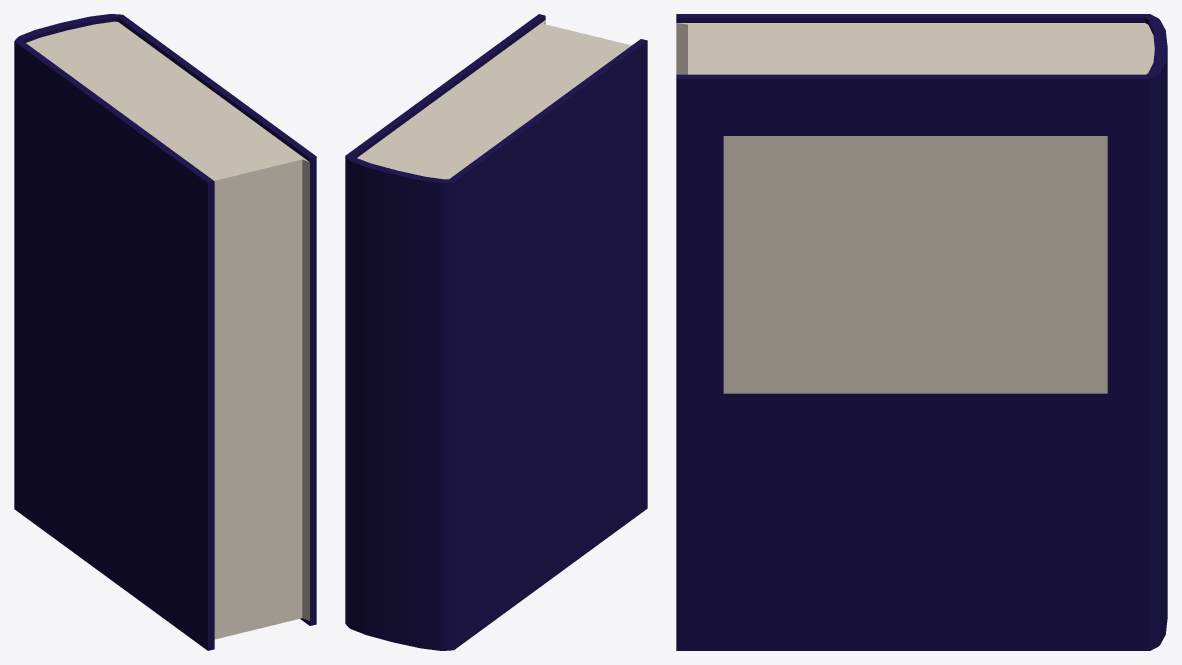
3 views of the same model, side by side, from view 1: azimuth 30°, elevation 25°; view 2: azimuth 150°, elevation 25°; view 3: azimuth 270°, elevation 25° (orthographic). The views are drawn at different scales.
Parts seen in each view (by area): view 1: pCube1; view 2: pCube1; view 3: pCube1.
Part boxes in pixels (x1,y1,x2,y2): pCube1: (14,14,316,650); pCube1: (345,14,647,650); pCube1: (676,14,1167,650).
Bounding box in the file's own units: 1.49 × 6.12 × 4.76.
